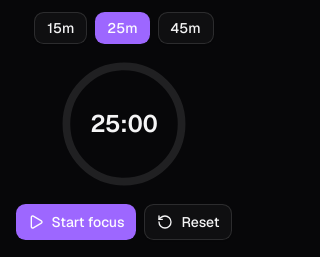
Test: FocusTimer › switches duration before starting
This screenshot has width=320, height=257.
Click the button "15m": click(61, 28) [34,12,87,44]
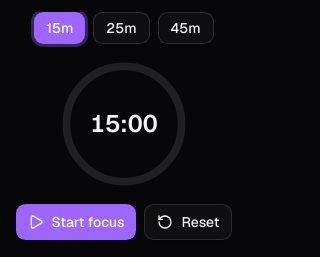
Now the text "15:00" is shown, box [90,108,158,140]
